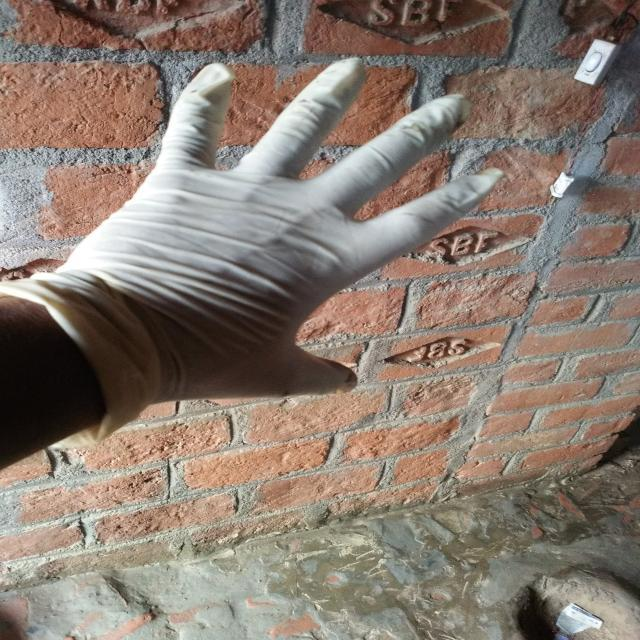glove_hand: (0, 51, 512, 457)
